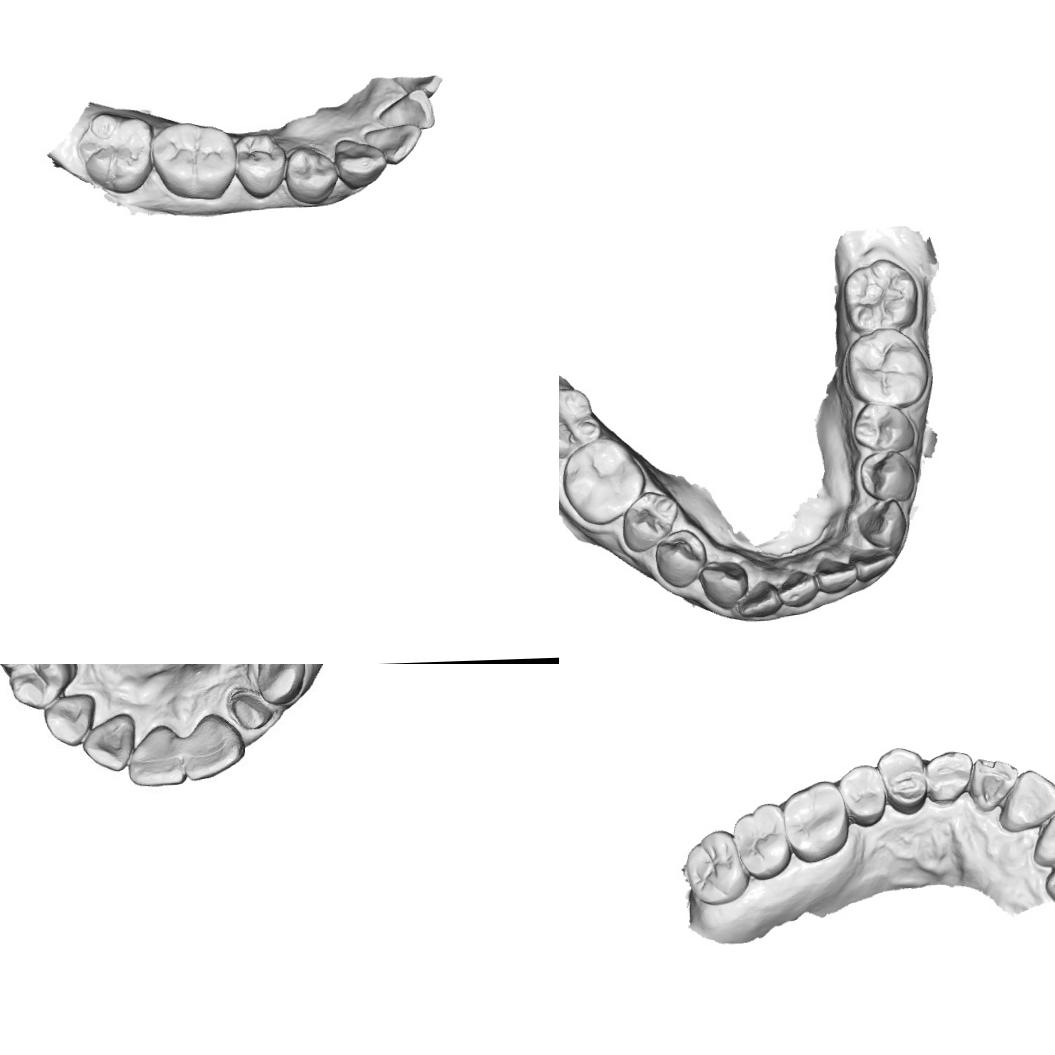canine: (924, 748, 978, 807), (41, 692, 96, 748), (334, 137, 388, 190), (697, 559, 750, 611), (855, 498, 908, 548), (259, 664, 309, 704)
crown: (226, 687, 275, 736)
incisor: (182, 712, 244, 782), (124, 723, 184, 788), (999, 767, 1055, 832), (966, 754, 1023, 816), (83, 712, 136, 774), (363, 122, 424, 166), (376, 88, 436, 131), (736, 578, 784, 620), (812, 555, 859, 594), (775, 569, 820, 608), (846, 549, 898, 582), (1031, 801, 1055, 867)
molar: (559, 434, 649, 528), (842, 324, 934, 409), (150, 120, 239, 204), (76, 111, 154, 196), (779, 778, 853, 864), (841, 257, 920, 336), (728, 800, 792, 884), (682, 828, 748, 907), (559, 384, 604, 462)
premolar: (874, 744, 931, 816), (620, 489, 682, 553), (232, 132, 289, 200), (836, 760, 890, 830), (283, 146, 339, 208), (652, 528, 708, 590), (4, 664, 76, 711), (851, 401, 917, 452), (858, 447, 917, 503)
